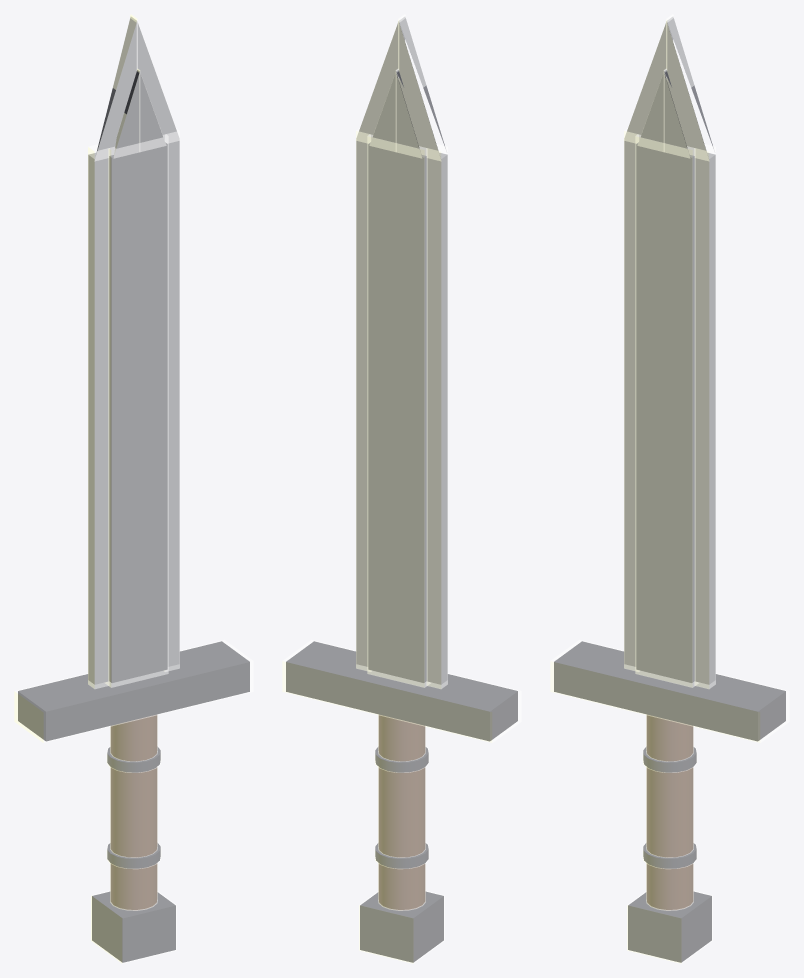
The picture shows the model from 3 angles, left to right: view 1: azimuth 30°, elevation 25°; view 2: azimuth 150°, elevation 25°; view 3: azimuth 330°, elevation 25°; orthographic projection.
Visible parts, largest first — view 1: weapon-celestial; view 2: weapon-celestial; view 3: weapon-celestial.
Boxes of the visible parts, bbox=[...] form: weapon-celestial: bbox=[14, 14, 253, 963]; weapon-celestial: bbox=[282, 14, 521, 963]; weapon-celestial: bbox=[550, 14, 789, 963].
Bounding box in the file's own units: 0.2024 × 0.8551 × 0.0526.
